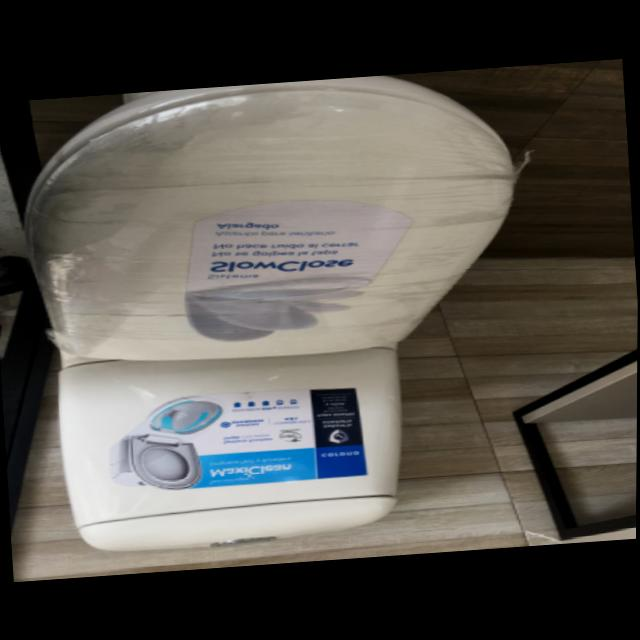toilet: (10, 67, 545, 560)
